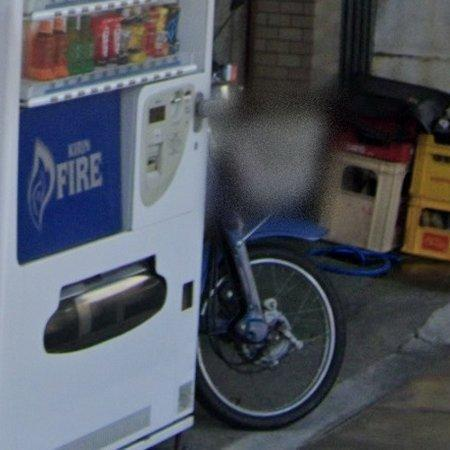motorcycles: (197, 65, 346, 429)
